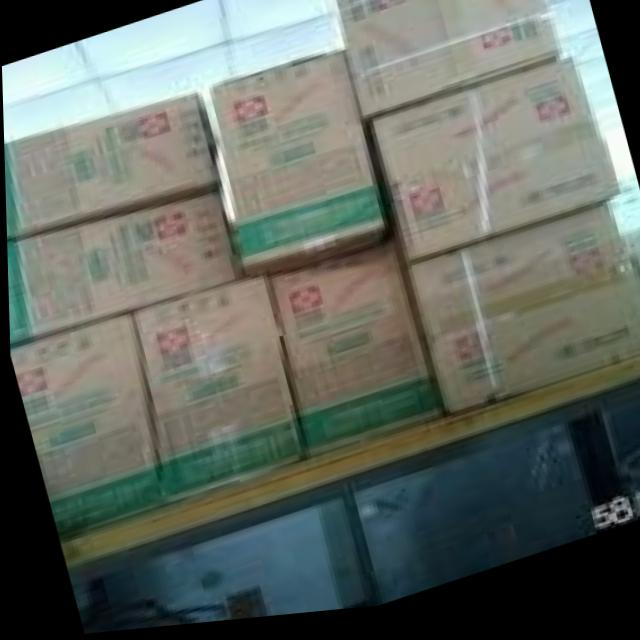box: (368, 66, 615, 268), (405, 211, 640, 421), (128, 279, 308, 508), (212, 52, 382, 279), (269, 243, 440, 464), (6, 194, 237, 346), (8, 315, 161, 538), (3, 96, 220, 243), (334, 0, 559, 128)
